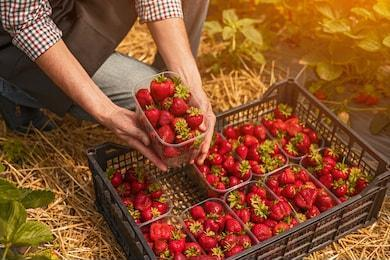Fresa: (166, 94, 192, 118), (142, 105, 161, 130), (185, 109, 204, 134), (331, 164, 350, 182), (322, 146, 343, 162)
